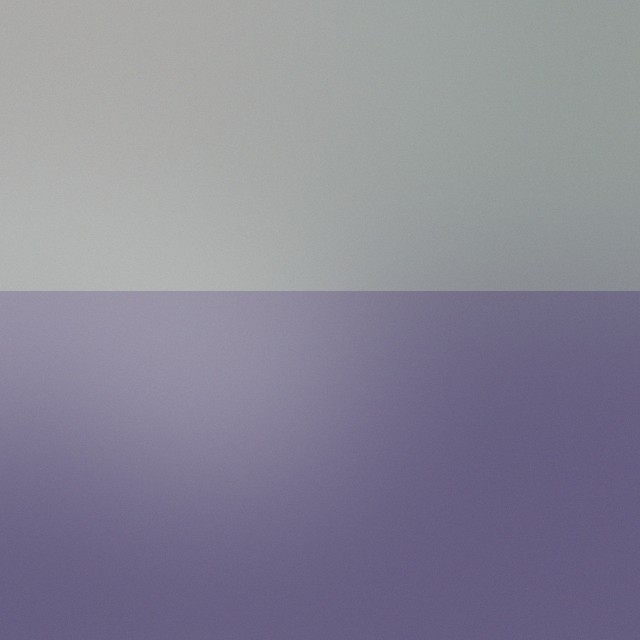smoke: (22, 19, 378, 375)
